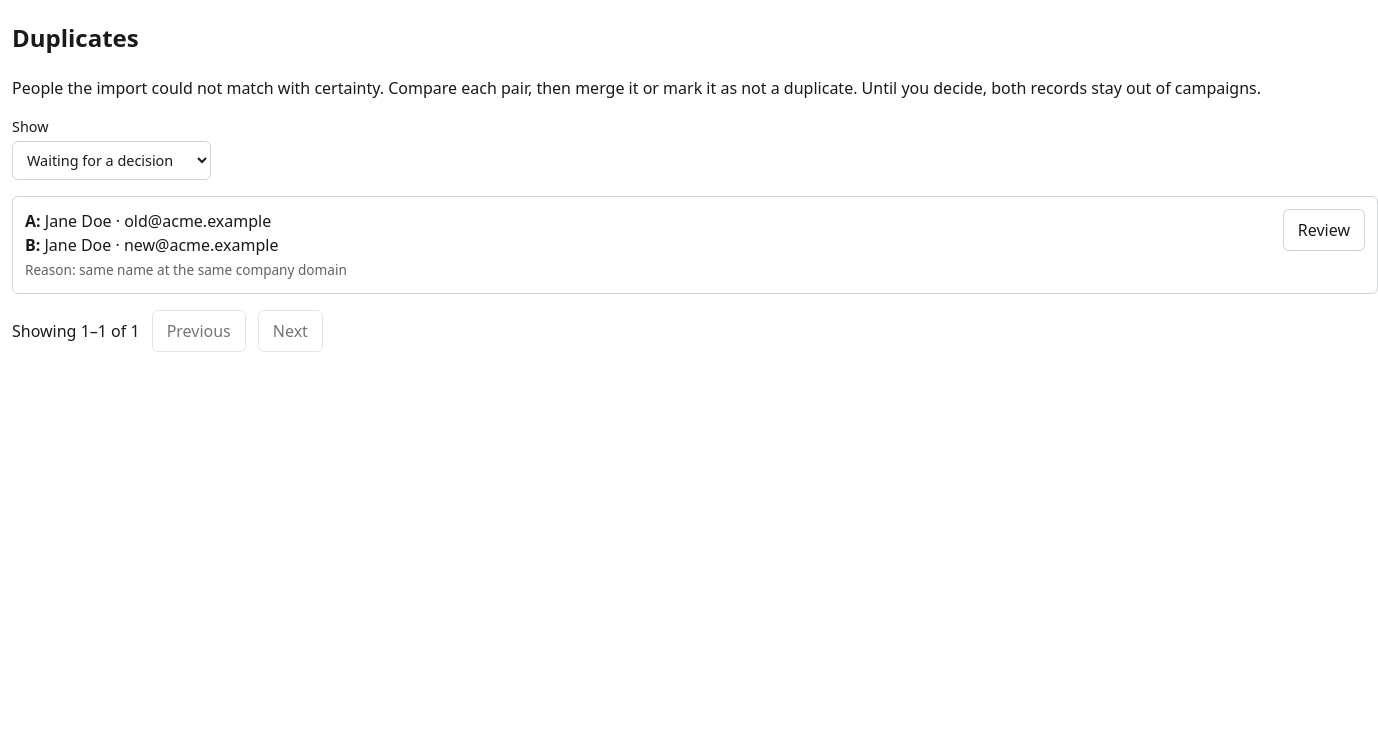
Scenario: compare and merge › 409: shows the server's text and refreshes the list
Expected: the text "Jane Doe · old@acme.example" is shown, [45,210,271,232]
Step 1. Click the button with aria-label "Review Jane Doe" → (1324, 230), box [1283,209,1365,251]
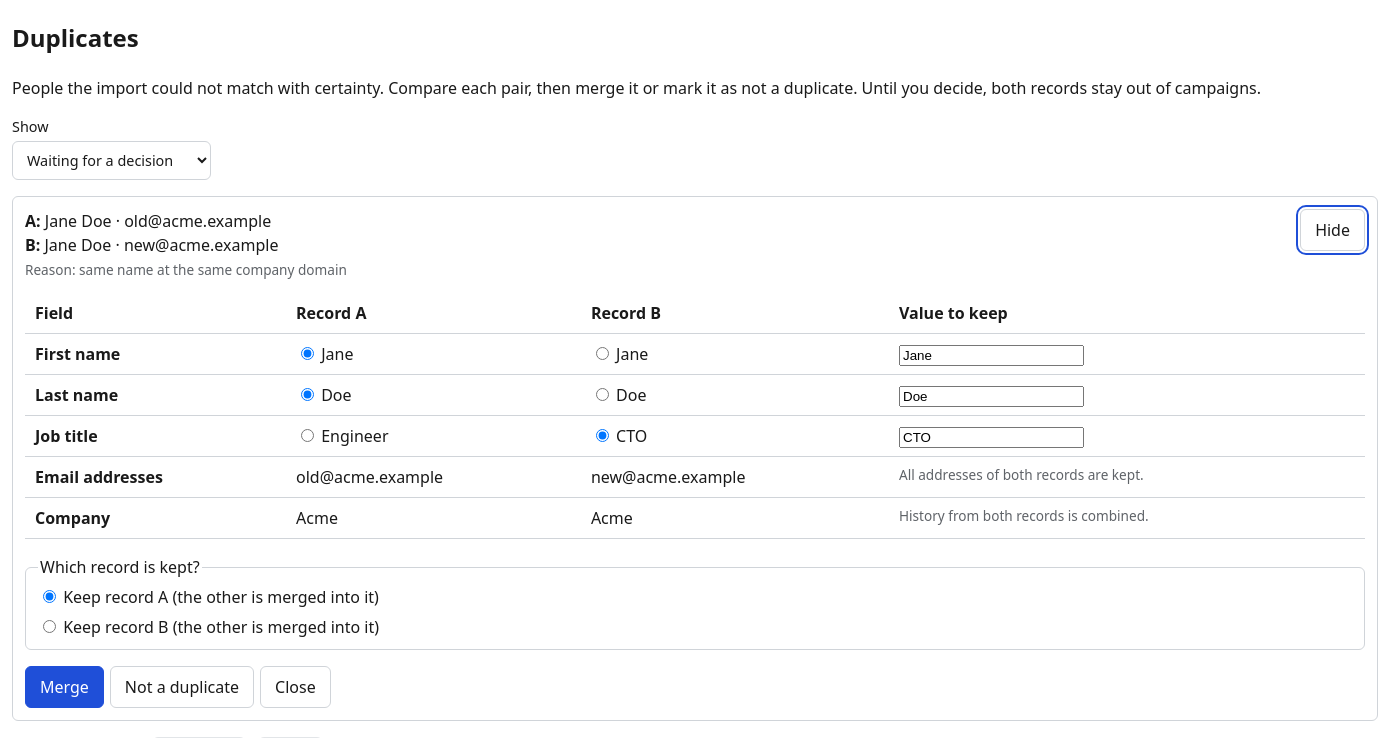
Step 2. Click the button "Merge" → (64, 687), box [25,666,104,708]
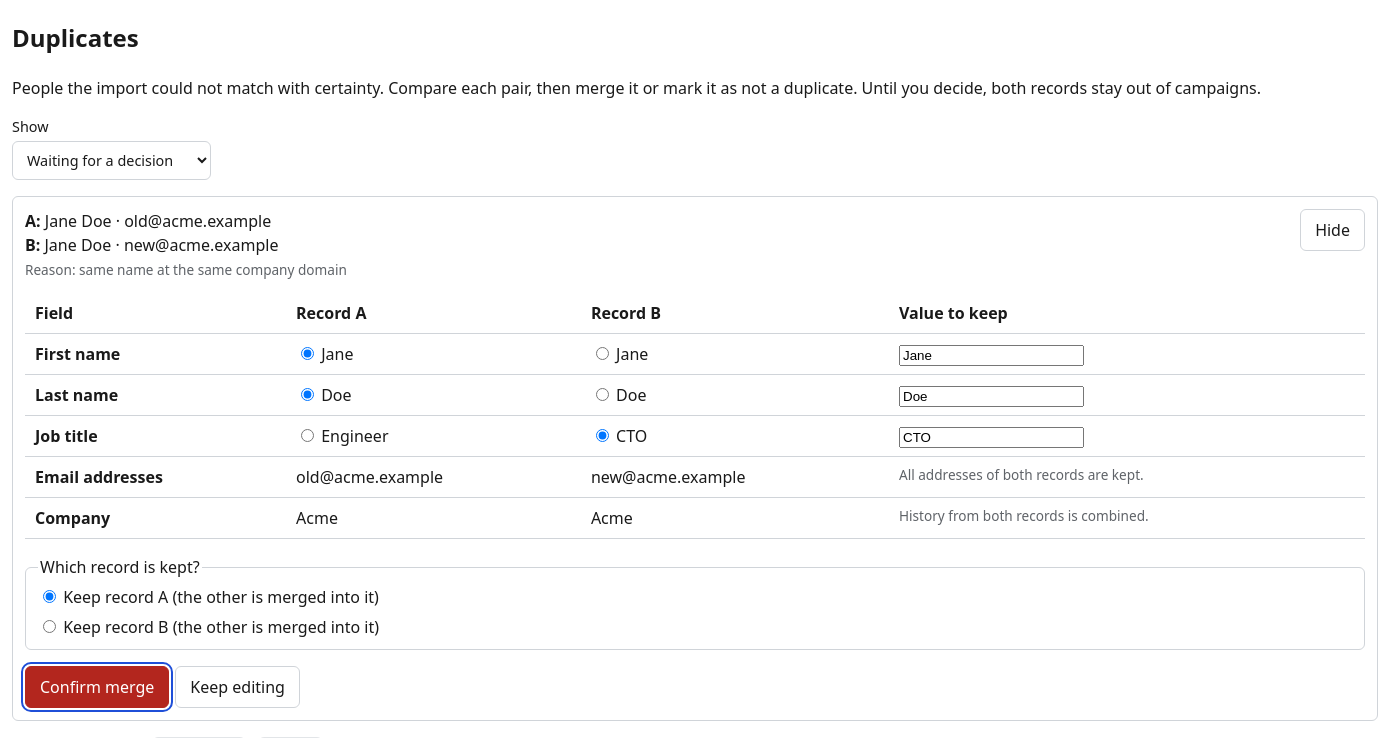
Step 3. Click the button "Confirm merge" → (97, 687), box [25,666,169,708]
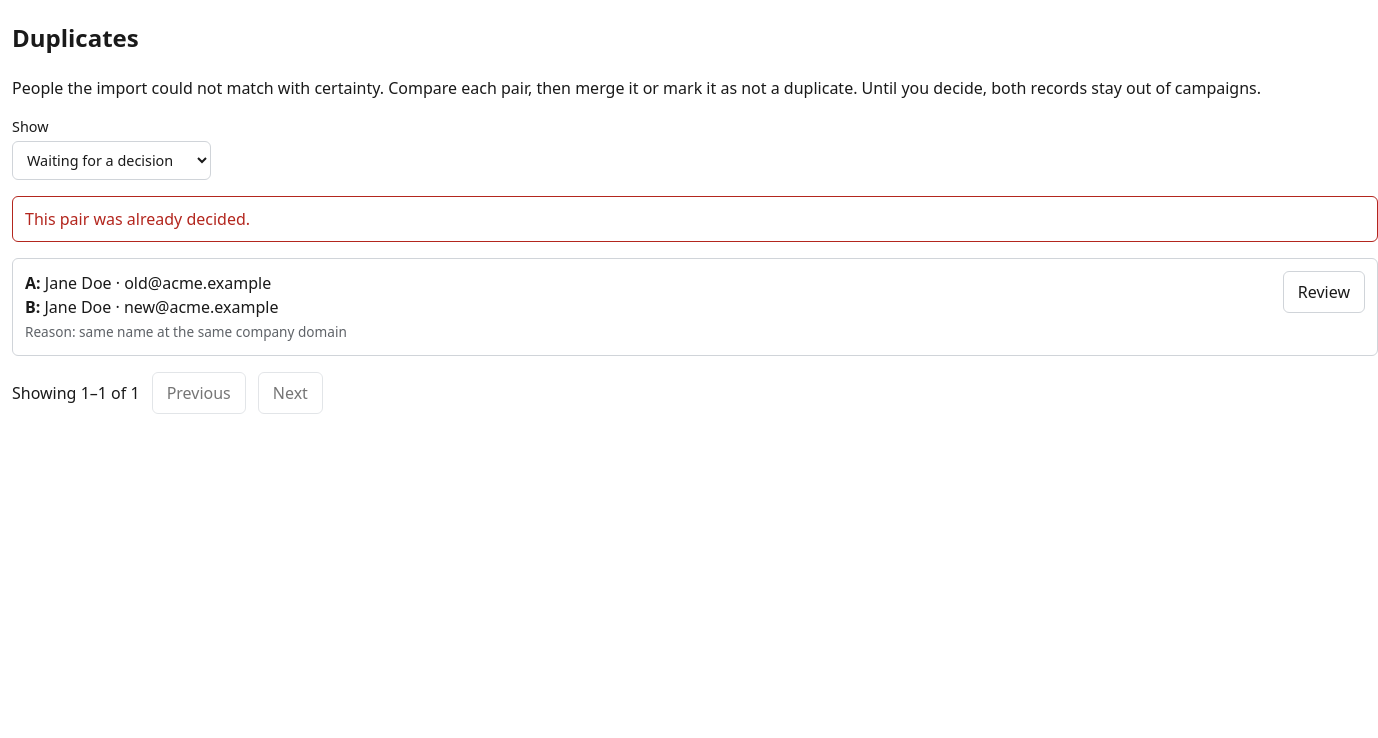
Now the text "This pair was already decided." is shown, box [12,196,1377,242]
